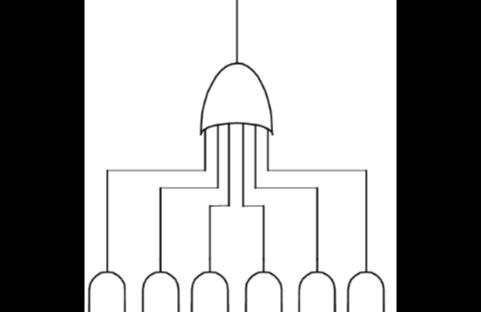and: (239, 265, 284, 312), (294, 266, 339, 312), (139, 268, 183, 312), (187, 268, 231, 312), (345, 268, 386, 312), (86, 270, 128, 312)
or: (188, 58, 289, 139)
